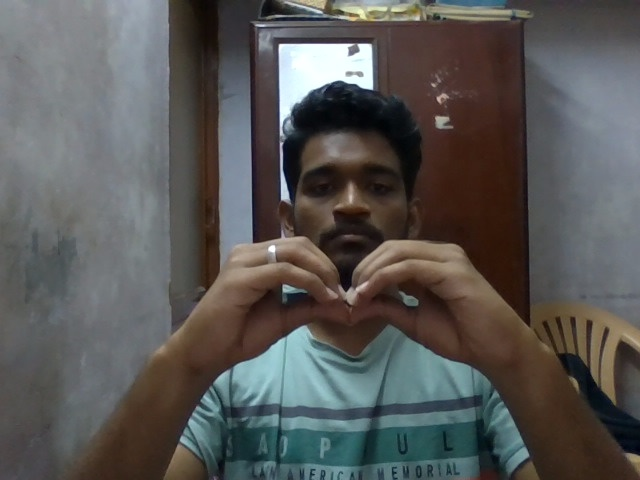B: (139, 235, 550, 402)
